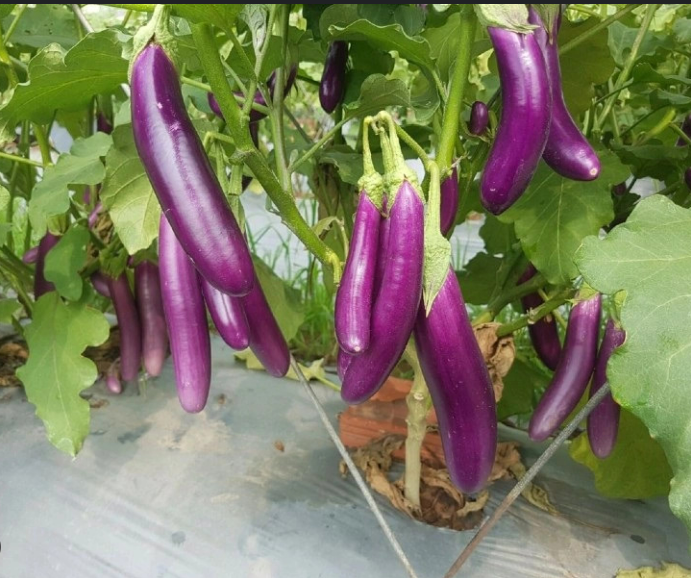catim: (117, 26, 272, 313), (412, 182, 507, 517), (468, 7, 550, 224), (369, 123, 426, 408), (559, 277, 603, 453), (336, 158, 364, 367), (104, 275, 147, 384), (29, 225, 69, 315)
